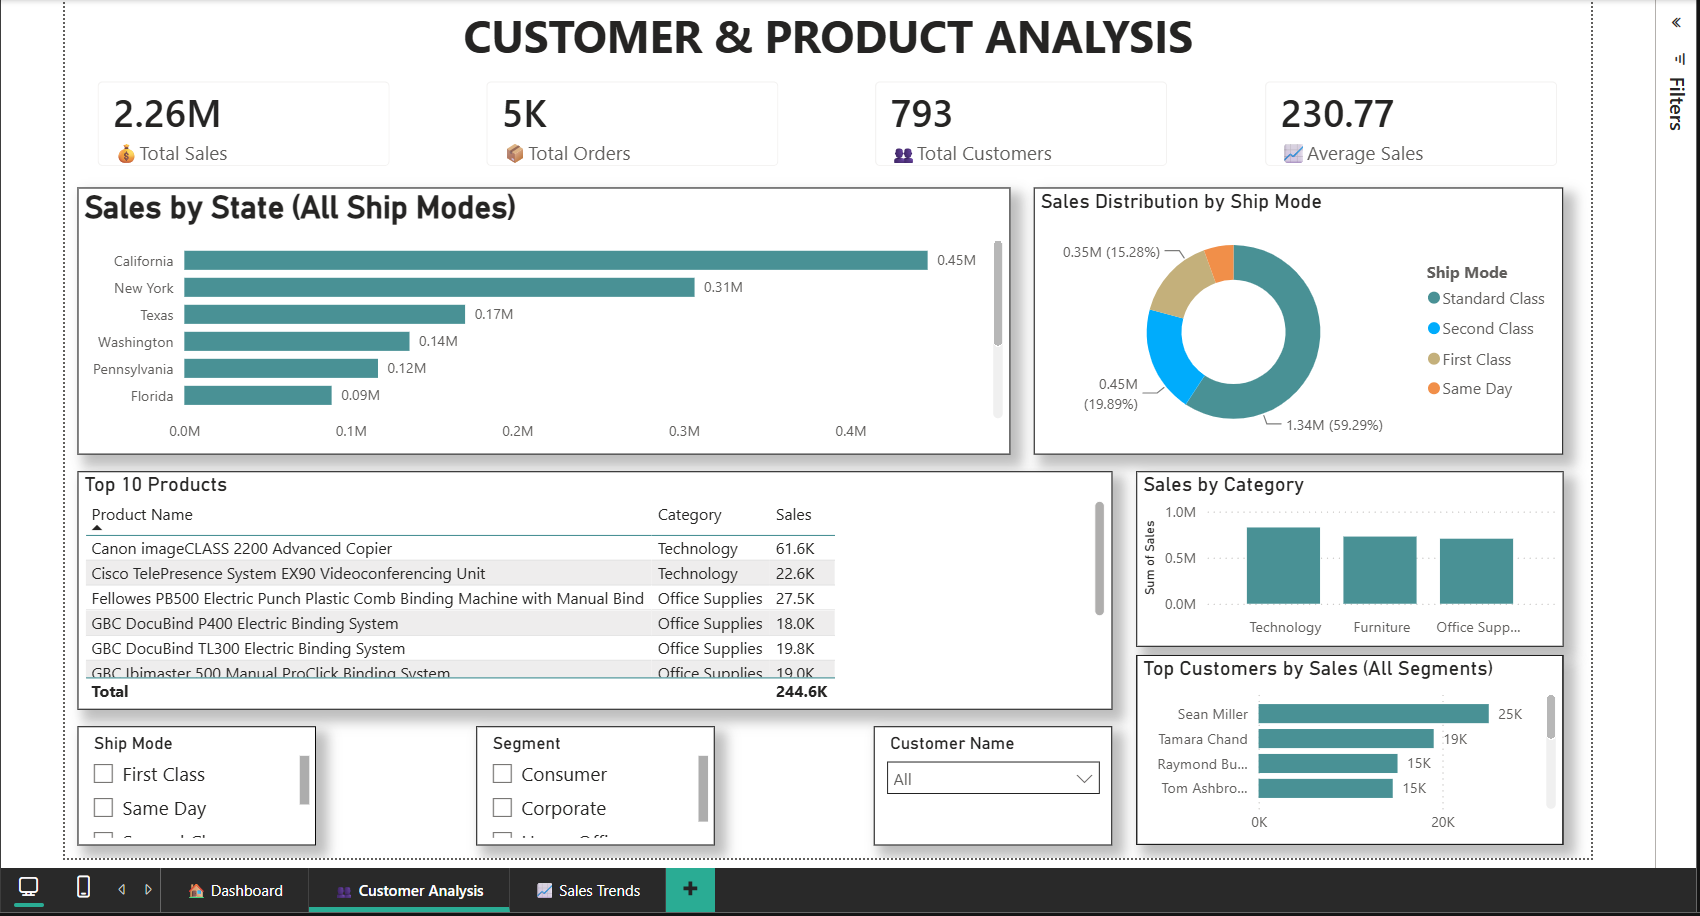

The page's visual inventory and layout, read from the dashboard file:
{"tool":"powerbi","page":{"name":"👥 Customer Analysis","canvas":[1280,720],"ordinal":1},"visuals":[{"type":"textbox","box":[10.5,0,279.2,280.6],"z":0},{"type":"textbox","box":[0,0,1280.3,69.8],"z":1000},{"type":"cardVisual","fields":{"Data":["train.Total Sales"]},"box":[10.5,51.4,279.2,105.4],"z":2000},{"type":"cardVisual","fields":{"Data":["train.Total Orders"]},"box":[336.8,51.4,279.2,105],"z":3000},{"type":"cardVisual","fields":{"Data":["train.Total Customers"]},"box":[663,51.4,279.2,105.4],"z":4000},{"type":"cardVisual","fields":{"Data":["train.Average Sales"]},"box":[989.2,51.4,279.2,105.4],"z":5000},{"type":"clusteredBarChart","fields":{"Y":["Sum(train.Sales)"],"Category":["train.State"]},"box":[10.5,156.7,782.4,223.9],"z":6000},{"type":"donutChart","title":"Sales Distribution by Ship Mode","fields":{"Category":["train.Ship Mode"],"Y":["Sum(train.Sales)"]},"box":[812.7,156.7,443.9,223.9],"z":7000},{"type":"tableEx","title":"Top 10 Products","fields":{"Values":["train.Product Name","train.Category","train.Sales K"]},"box":[10.5,395.1,868,200],"z":8000},{"type":"lineClusteredColumnComboChart","title":"Sales by Category","fields":{"Category":["train.Category"],"Y":["Sum(train.Sales)"]},"box":[898.3,395.1,358.3,147.5],"z":9000},{"type":"slicer","fields":{"Values":["train.Customer Name"]},"box":[678.5,608.9,200.1,100],"z":10000},{"type":"slicer","fields":{"Values":["train.Ship Mode"]},"box":[10.9,608.9,200.1,100],"z":11000},{"type":"slicer","fields":{"Values":["train.Segment"]},"box":[344.7,608.9,200,100],"z":12000},{"type":"clusteredBarChart","fields":{"Category":["train.Customer Name"],"Y":["Sum(train.Sales)"]},"box":[898.3,549.3,358.3,159.4],"z":13000}]}

Visuals, with their boxes on the page's 1280x720 design canvas (x1, y1, x2, y2). These are canvas units, not pixel positions in the 1700x916 screenshot, which may show the page scaled, cropped or inside an application window:
textbox: 10 0 290 281
textbox: 0 0 1280 70
cardVisual - train.Total Sales: 10 51 290 157
cardVisual - train.Total Orders: 337 51 616 156
cardVisual - train.Total Customers: 663 51 942 157
cardVisual - train.Average Sales: 989 51 1268 157
clusteredBarChart - Sum(train.Sales) x train.State: 10 157 793 381
"Sales Distribution by Ship Mode" donutChart: 813 157 1257 381
"Top 10 Products" tableEx: 10 395 878 595
"Sales by Category" lineClusteredColumnComboChart: 898 395 1257 543
slicer - train.Customer Name: 678 609 879 709
slicer - train.Ship Mode: 11 609 211 709
slicer - train.Segment: 345 609 545 709
clusteredBarChart - train.Customer Name x Sum(train.Sales): 898 549 1257 709
